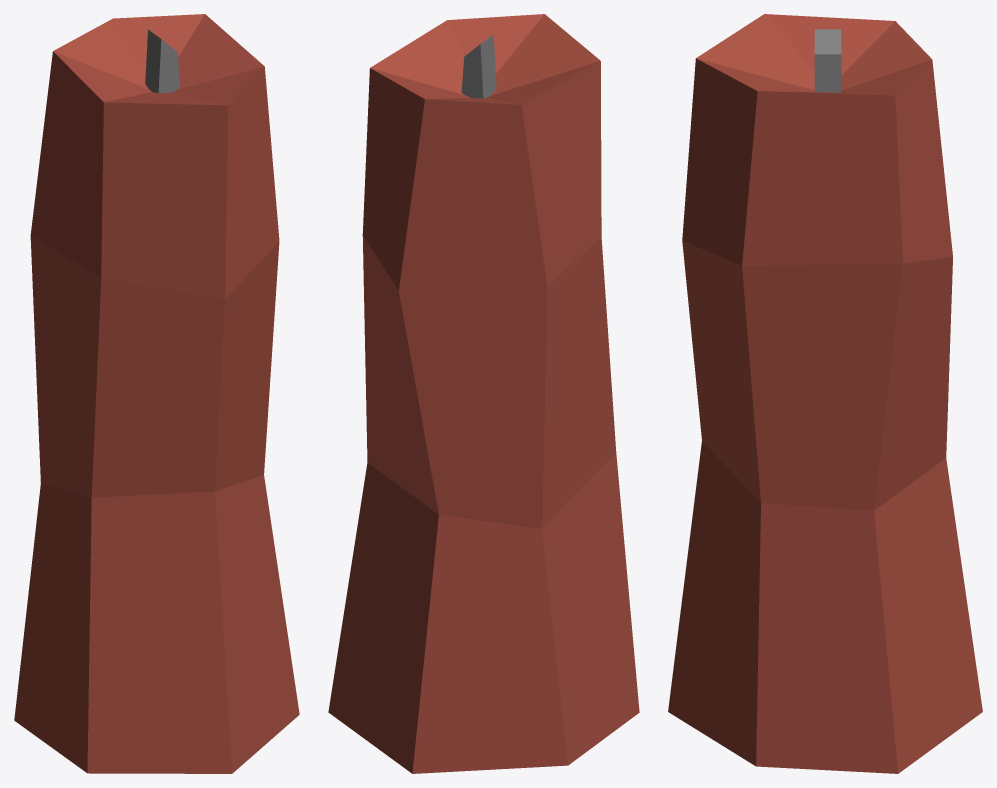
Rendered from Candle_1_Red.fbx.
3 renders of one model, left to right at view 1: azimuth 30°, elevation 25°; view 2: azimuth 150°, elevation 25°; view 3: azimuth 270°, elevation 25°, orthographic.
Visible parts, largest first — view 1: Candle_1_Red_Part_1, Candle_1_Red_Part_2; view 2: Candle_1_Red_Part_1, Candle_1_Red_Part_2; view 3: Candle_1_Red_Part_1, Candle_1_Red_Part_2.
Boxes of the visible parts, <box> form: Candle_1_Red_Part_1: <box>14,14,299,773</box>; Candle_1_Red_Part_2: <box>145,29,180,93</box>; Candle_1_Red_Part_1: <box>328,14,639,773</box>; Candle_1_Red_Part_2: <box>461,34,496,98</box>; Candle_1_Red_Part_1: <box>668,14,982,773</box>; Candle_1_Red_Part_2: <box>814,29,841,92</box>.
Bounding box in the file's own units: 11.26 × 31.14 × 13.
